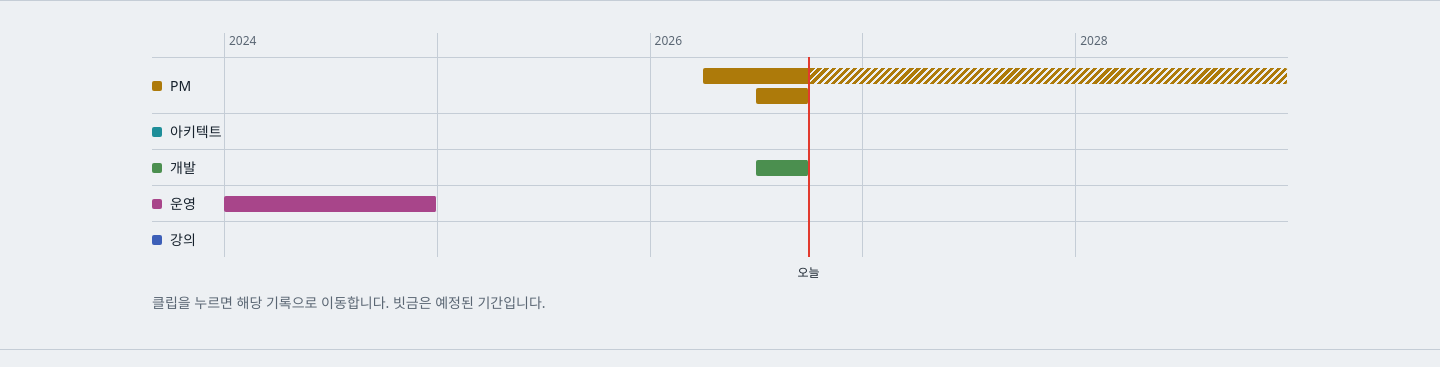
Test case: CareerTimeline › 클립에 포인터를 올리면 이름과 기간을 보여 주고 같은 프로젝트의 클립을 함께 강조한다
This screenshot has width=1440, height=367.
Hover over the link named "A, 2026.07 – 진행 중, PM": (782, 96) [756, 88, 809, 104]
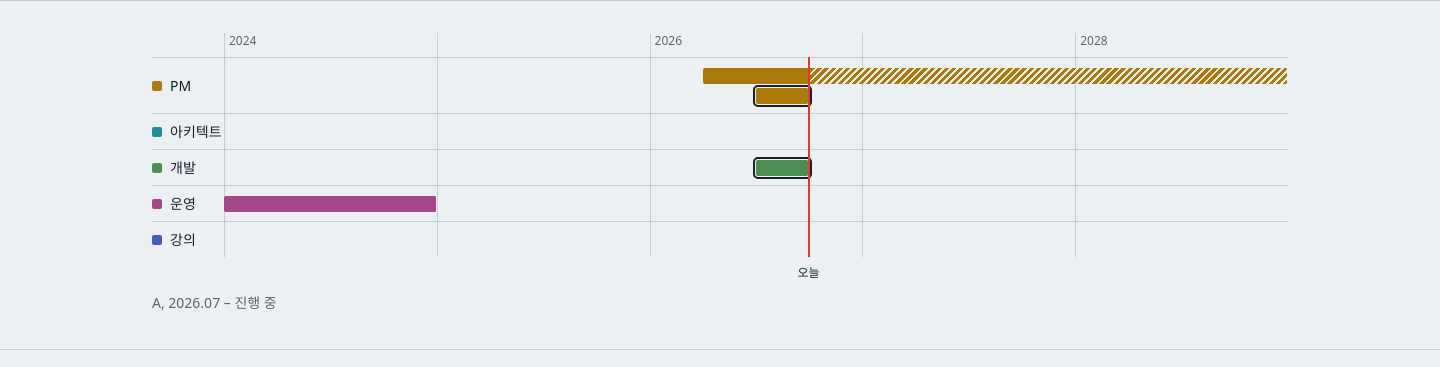
expect the text "A, 2026.07 – 진행 중" is shown: met, box [152, 293, 277, 312]
Move the pointer off the link named "A, 2026.07 – 진행 중, PM", box [756, 88, 809, 104]
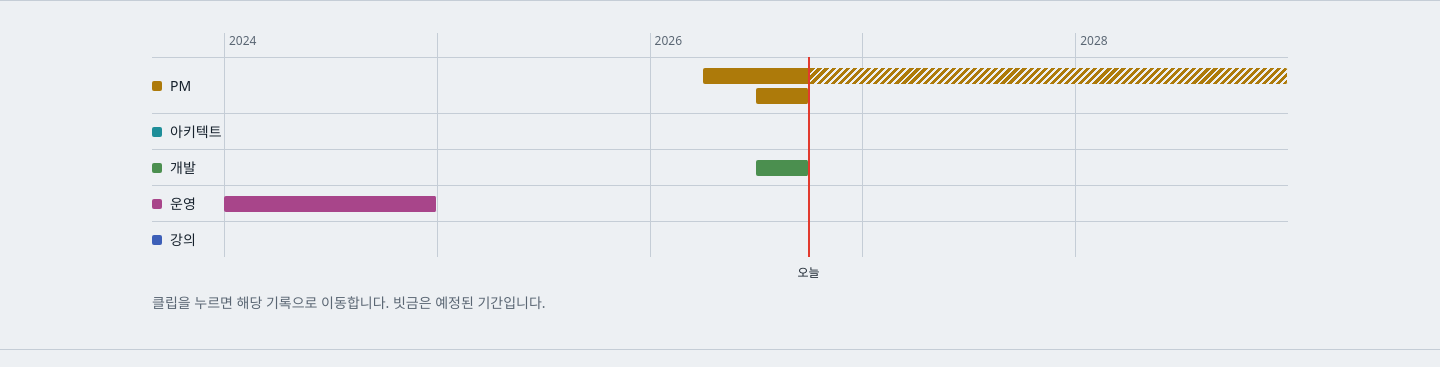
expect the text "A, 2026.07 – 진행 중" is gone: met
